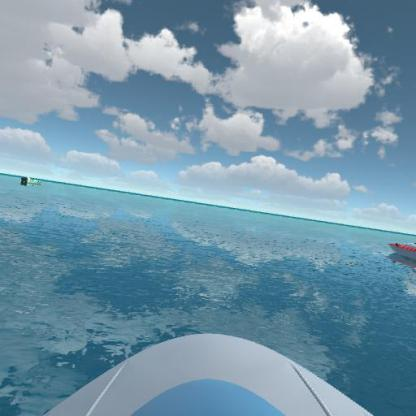usv0: (19, 171, 44, 189)
usv3: (388, 230, 415, 262)
